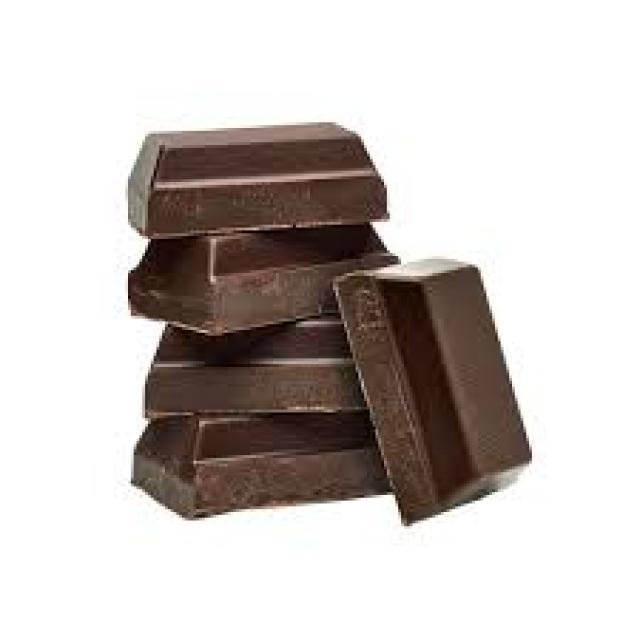Chocolate: (122, 117, 537, 531), (330, 253, 534, 523)
